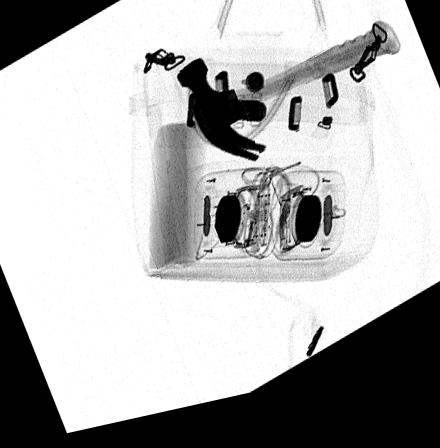Hammer: (174, 37, 401, 173)
